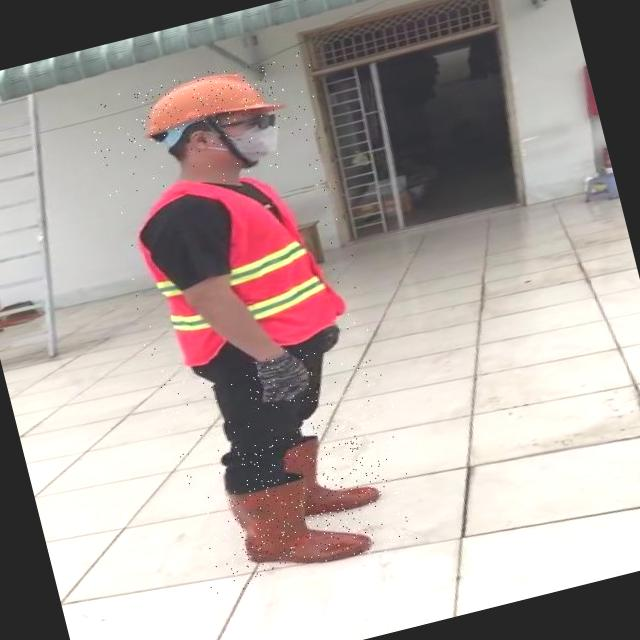boots: (226, 412, 388, 537), (224, 458, 376, 580)
helmet: (132, 58, 280, 142)
vest: (123, 161, 348, 379)
